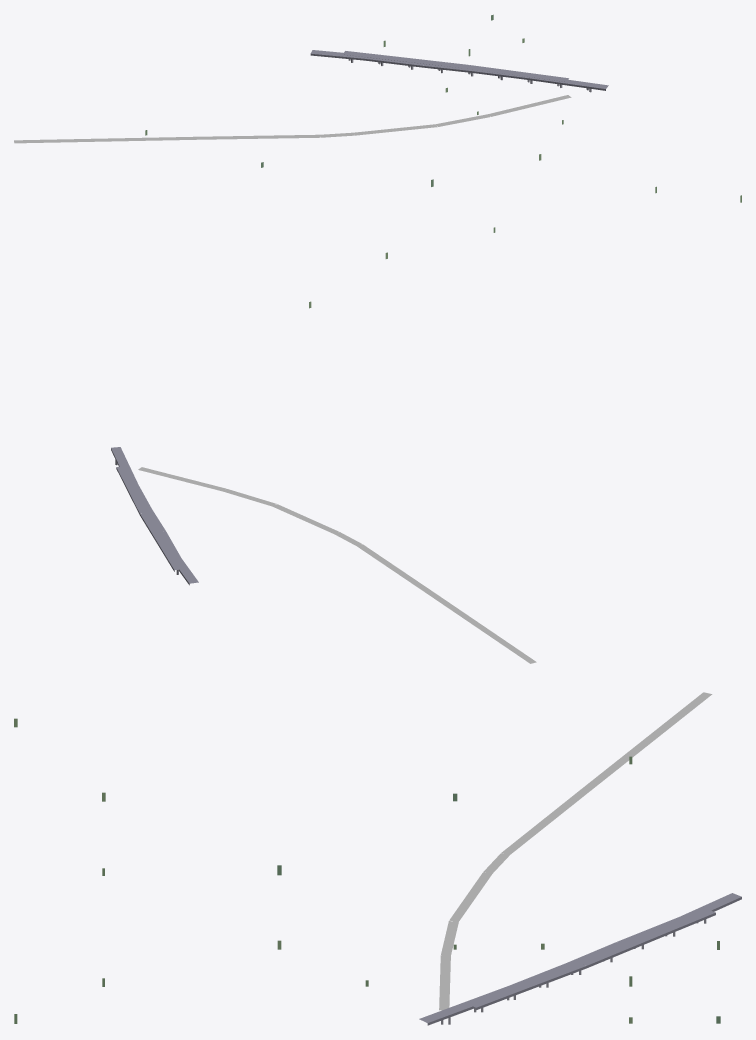
3 renders of one model, top to bottom at view 1: azimuth 30°, elevation 25°; view 2: azimuth 150°, elevation 25°; view 3: azimuth 270°, elevation 25°, orthographic. The views are drawn at different scales.
Size of the model in its own units: 554 by 8.95 by 497.
